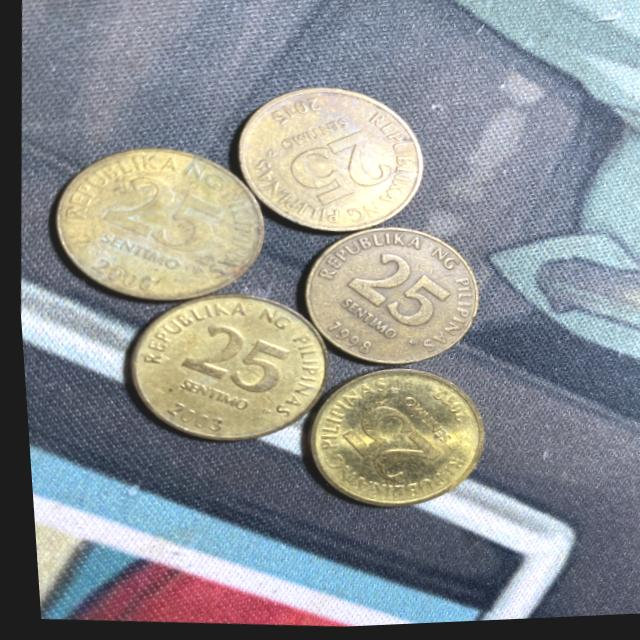25Cent_Old_Front: (275, 127, 399, 217), (100, 172, 222, 259), (332, 252, 448, 338), (174, 320, 287, 401), (327, 400, 432, 484)
